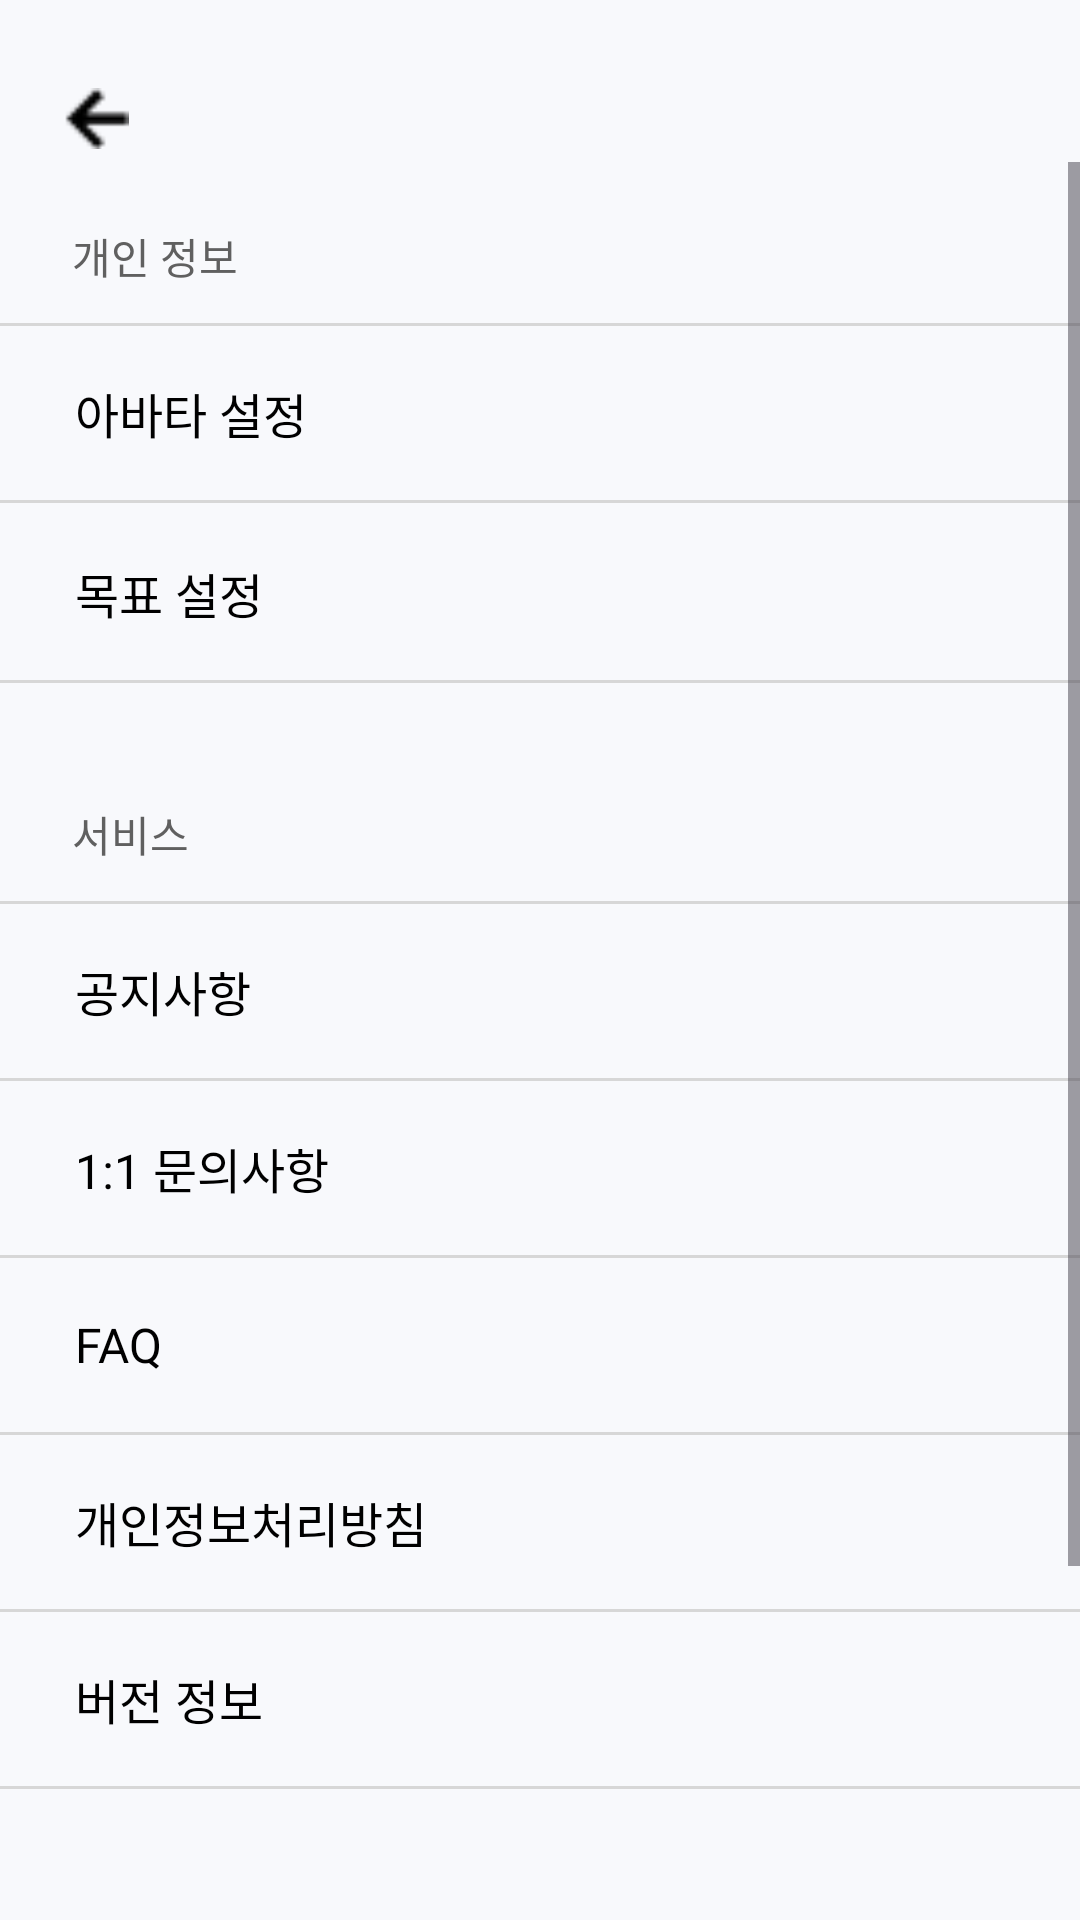

Screen size 1080×1920. Icon name, then its box in pixels as [left=x1, top=y1, right=x2, bottom=y2]:
arrow left: [left=66, top=88, right=129, bottom=149]
